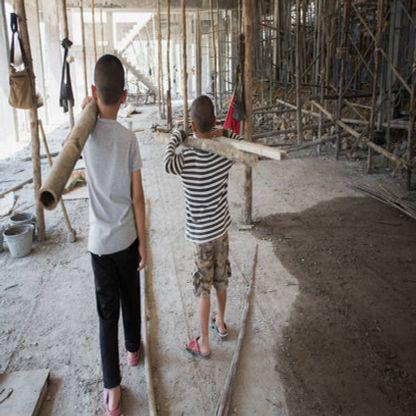without_helmet: (93, 60, 125, 103), (185, 93, 217, 130)
without_vest: (81, 121, 137, 242), (178, 144, 231, 238)
